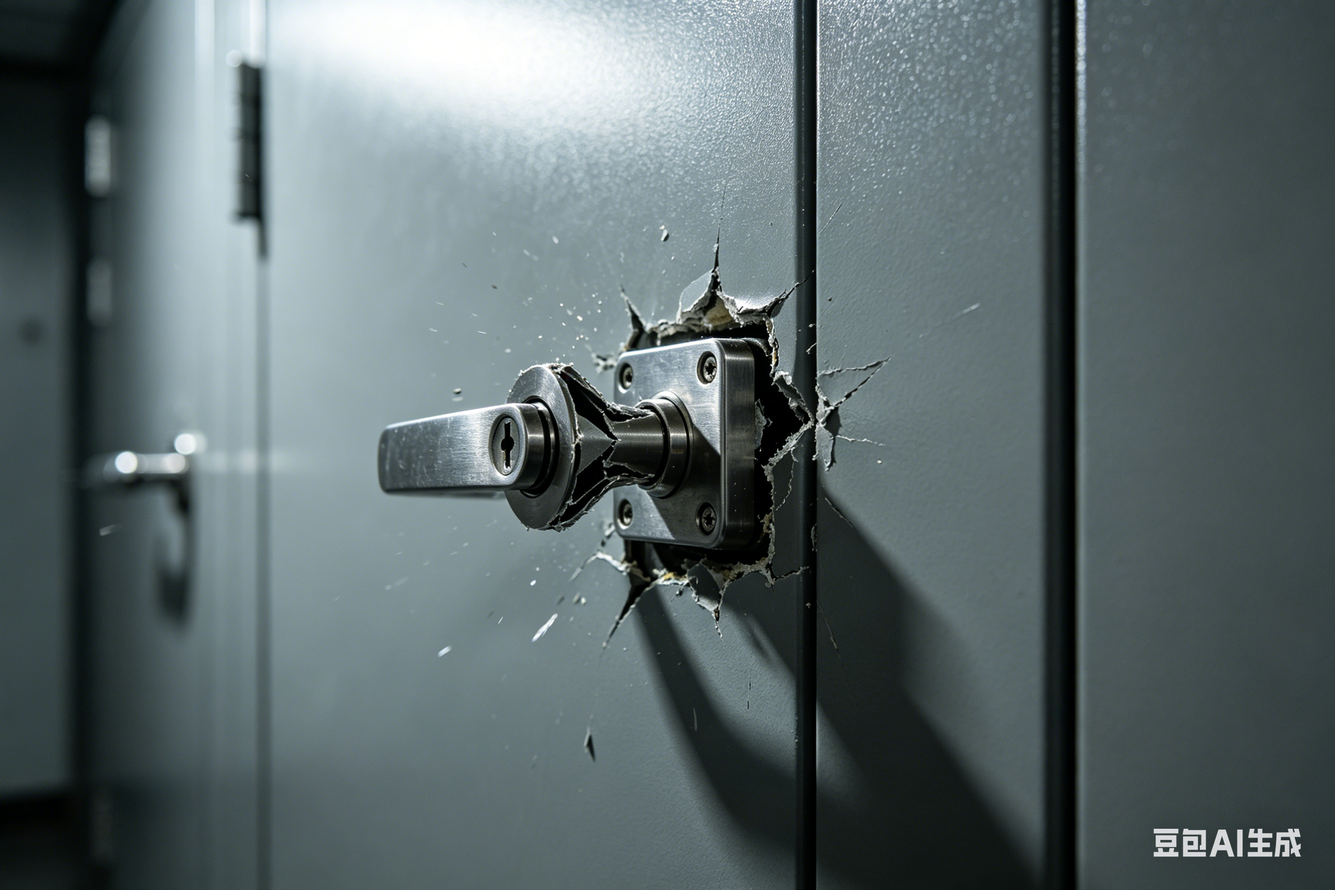BadLock: (596, 293, 809, 610)
